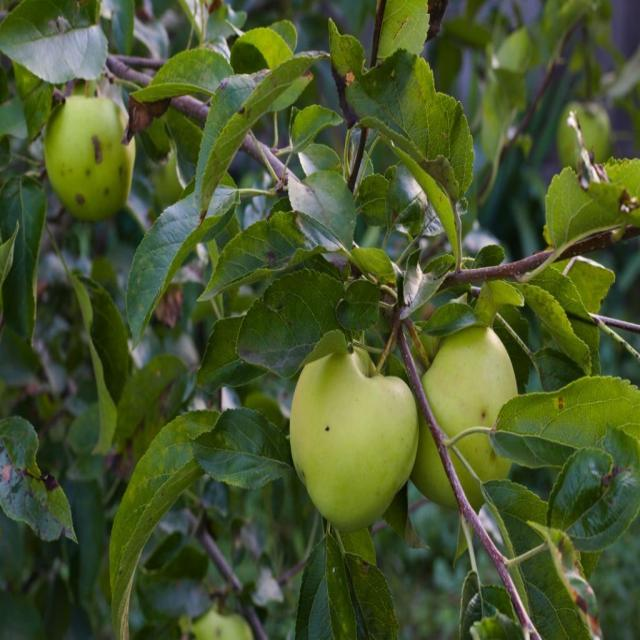Green Apple: (406, 315, 528, 507), (292, 335, 421, 513), (53, 86, 137, 209), (189, 600, 244, 640)
